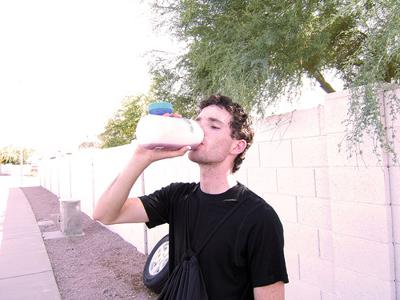person: (91, 95, 290, 300)
